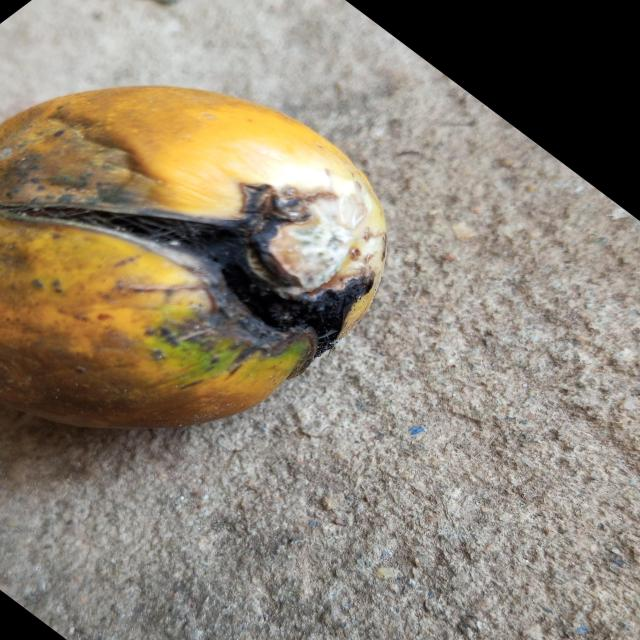damaged: (0, 85, 389, 432)
